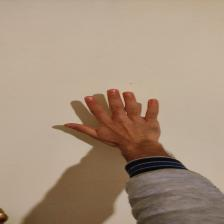five: (63, 88, 169, 148)
